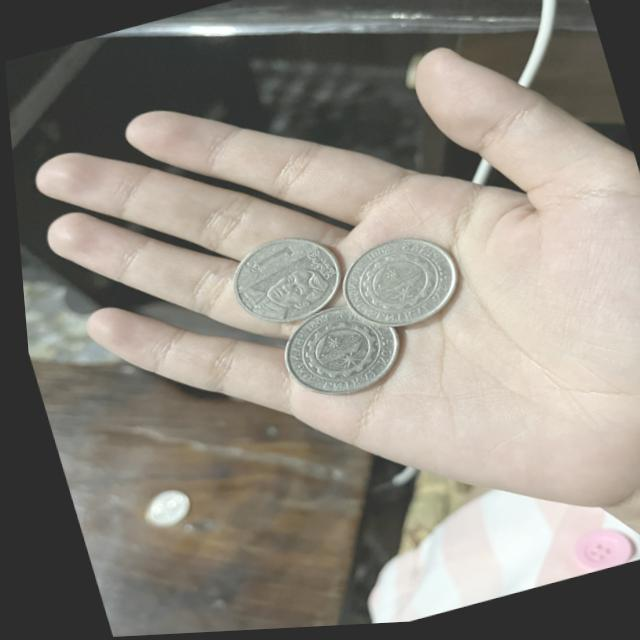1_New_Front: (233, 239, 328, 325)
1_Old_Back: (338, 242, 444, 331)
